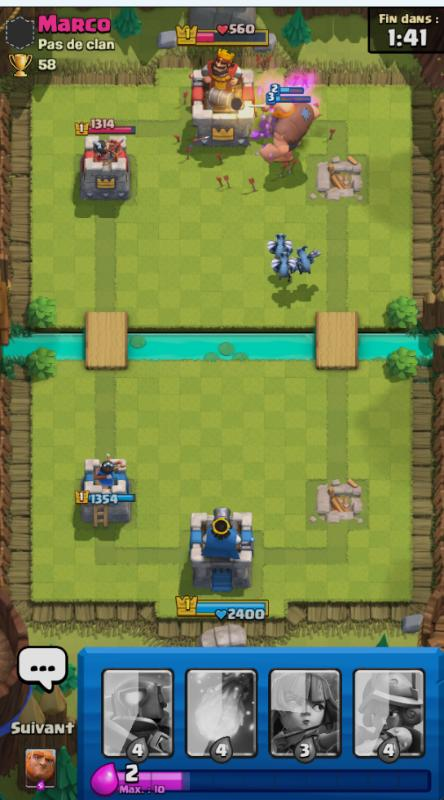gargouille: (291, 243, 324, 280), (268, 252, 299, 284), (263, 229, 294, 254)
geant: (252, 98, 340, 176)
